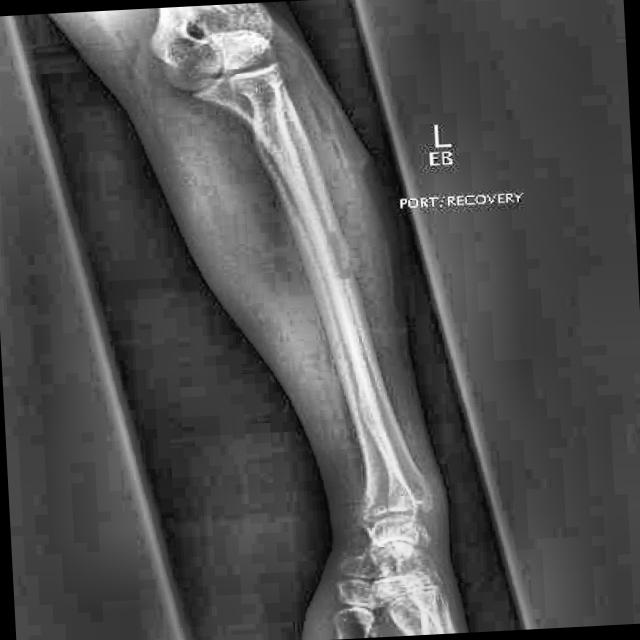forearm fracture: (315, 213, 383, 302)
